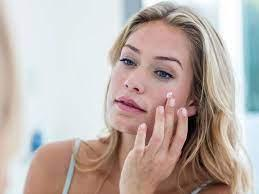Oily-Skin: (133, 33, 157, 99), (135, 80, 187, 103), (113, 67, 143, 97)
